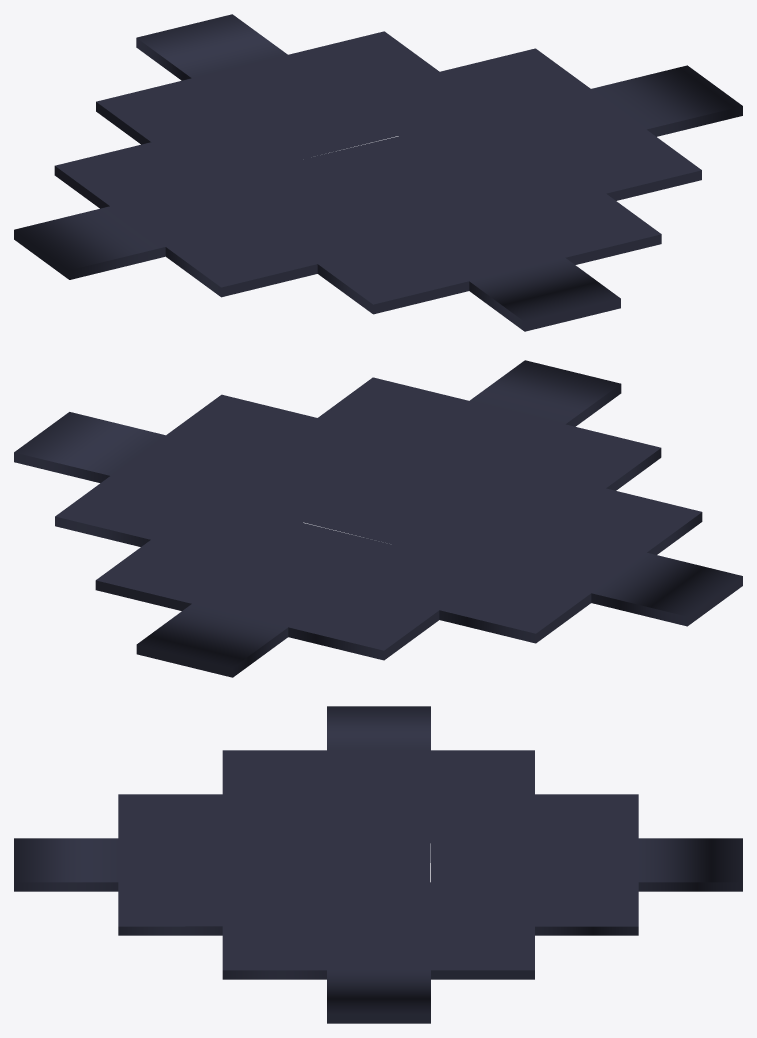
The model's file is raggio 3.fbx.
The picture shows the model from 3 angles, top to bottom: view 1: azimuth 30°, elevation 25°; view 2: azimuth 150°, elevation 25°; view 3: azimuth 270°, elevation 25°; orthographic projection. The views are drawn at different scales.
Visible parts, largest first — view 1: Base.003; view 2: Base.003; view 3: Base.003.
Boxes of the visible parts, left/top/right/bottom form: Base.003: left=14, top=14, right=742, bottom=331; Base.003: left=14, top=360, right=742, bottom=677; Base.003: left=14, top=706, right=742, bottom=1023.
Size of the model in its own units: 1785 by 24.85 by 1783.
